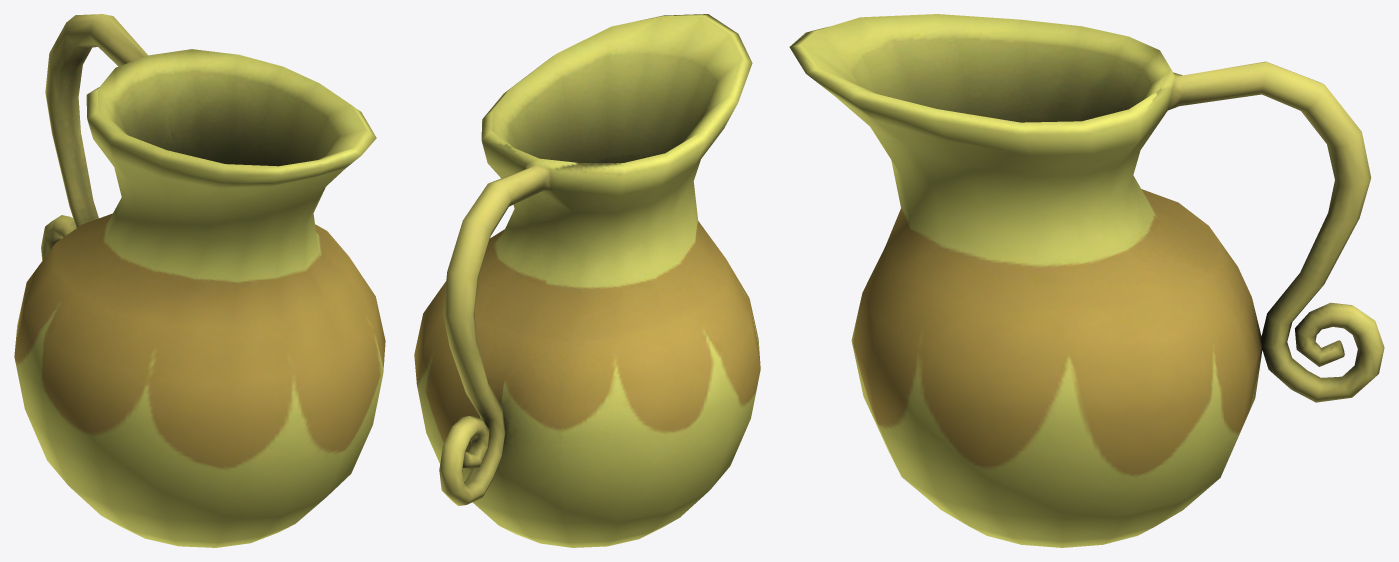
File: pitcher.glb
The picture shows the model from 3 angles, left to right: view 1: azimuth 30°, elevation 25°; view 2: azimuth 150°, elevation 25°; view 3: azimuth 270°, elevation 25°; orthographic projection. The views are drawn at different scales.
Parts seen in each view (by area): view 1: fc_pitcher.smd; view 2: fc_pitcher.smd; view 3: fc_pitcher.smd.
Part boxes in pixels (x1,y1,x2,y2): fc_pitcher.smd: [14, 14, 385, 547]; fc_pitcher.smd: [414, 14, 760, 547]; fc_pitcher.smd: [789, 14, 1384, 547].
Bounding box in the file's own units: 0.246 × 0.3237 × 0.377.
1 material, 1 textured.
